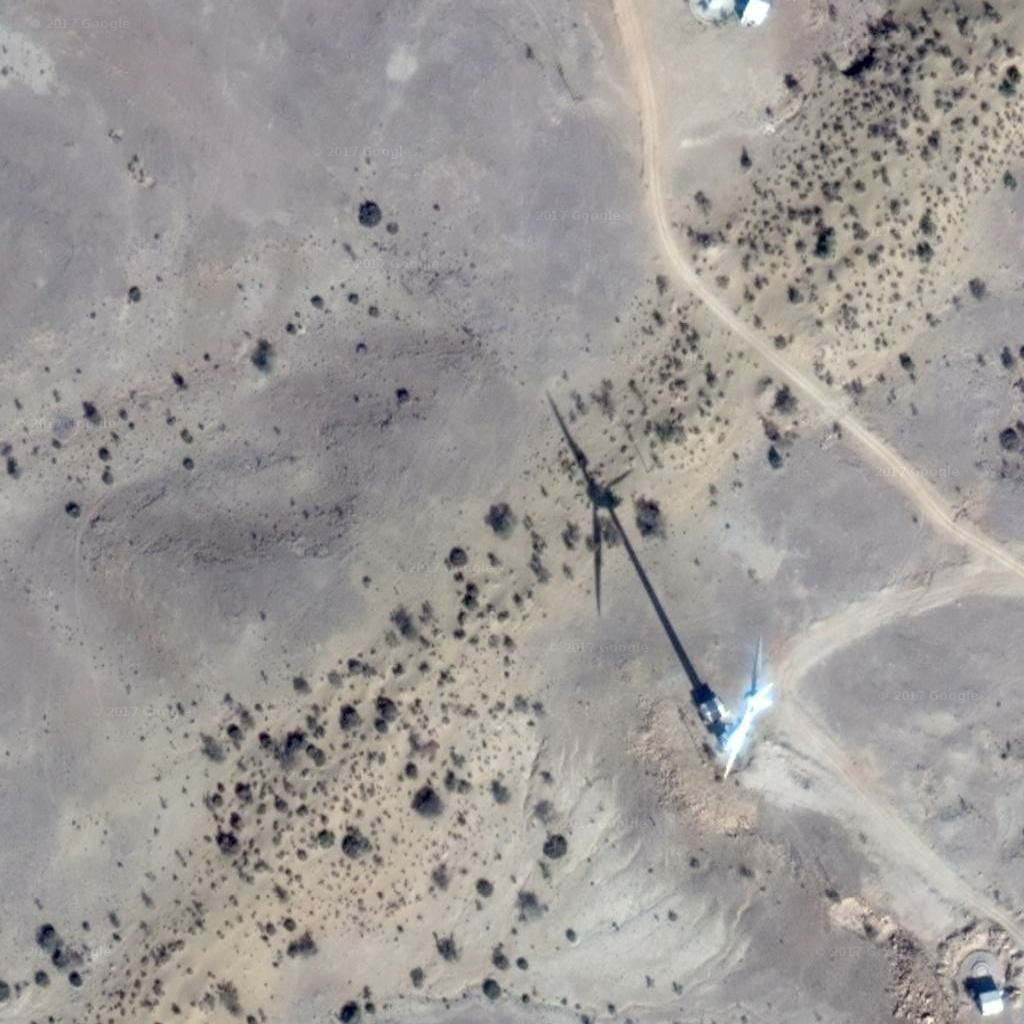Windmill: (540, 388, 734, 700)
